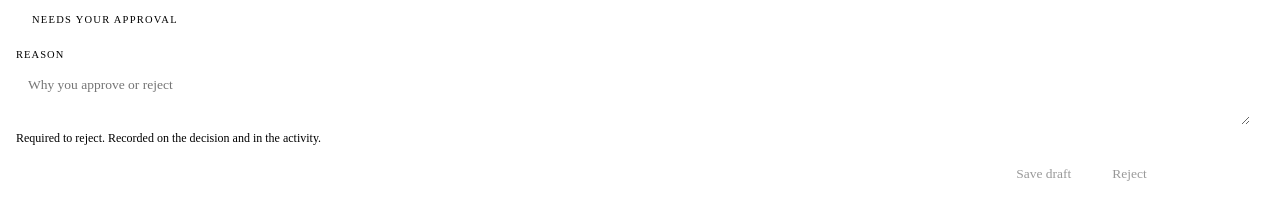
DecisionBar: approval › keeps Reject disabled until there is a reason
Expected: the button "Reject" is disabled, [1096,158,1163,190]
Type "Above my authority" into the text box labelled "Reason".
click(633, 95); type("Above my authority")  # box [16,66,1250,124]
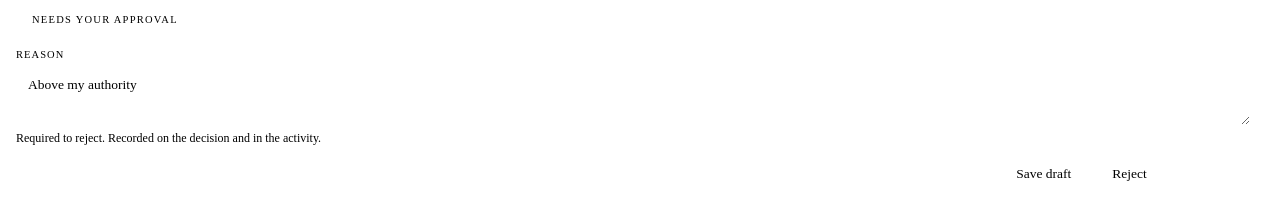
Expected: the button "Reject" is enabled, [1096,158,1163,190]
